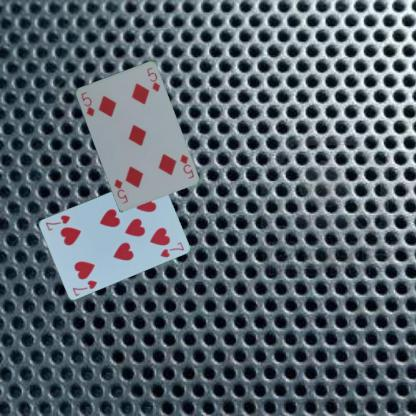5d: (78, 89, 96, 117), (177, 152, 195, 180)
7h: (70, 277, 98, 297)
